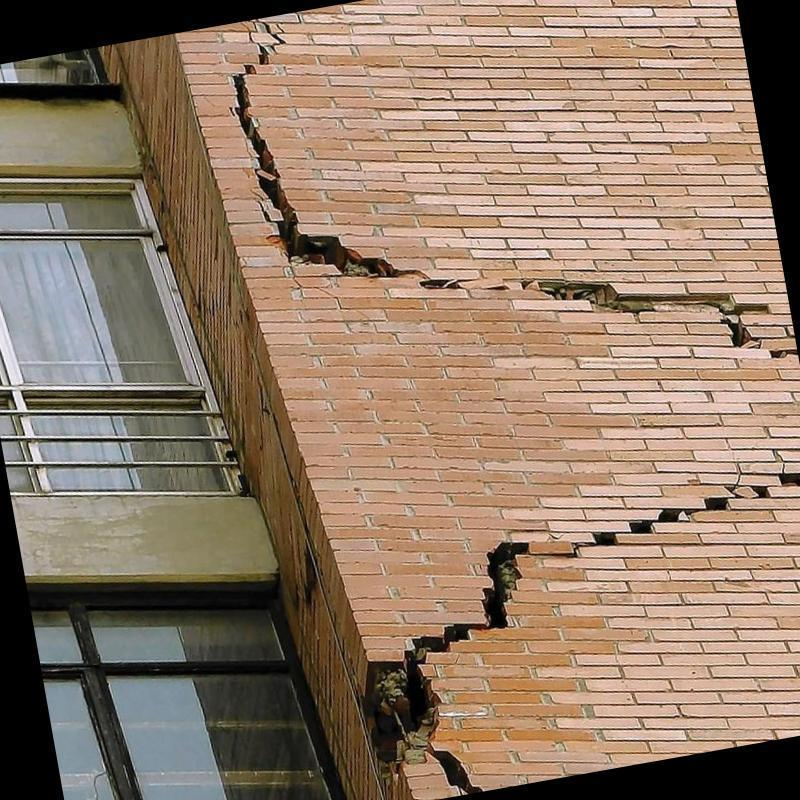pothole: (363, 542, 527, 793), (233, 65, 418, 276), (540, 281, 751, 347), (260, 19, 285, 54), (421, 279, 461, 289), (659, 509, 683, 523), (705, 496, 728, 510), (630, 520, 653, 534), (749, 485, 769, 501), (594, 533, 616, 546), (249, 21, 260, 45), (779, 474, 800, 486), (258, 44, 269, 65), (770, 351, 785, 358)
